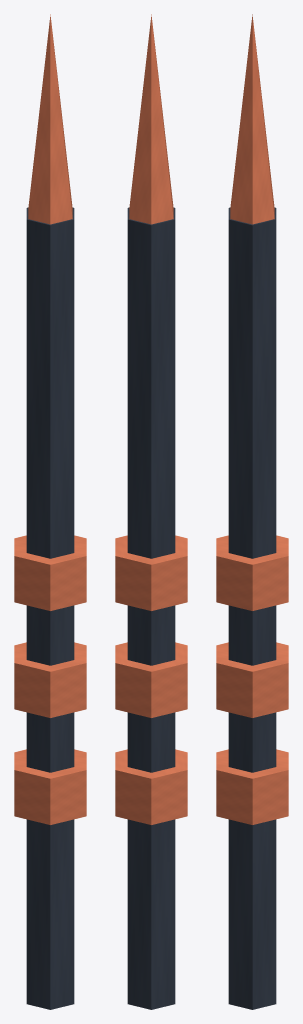
Rendered from atlas100-s021-a05.glb.
3 renders of one model, left to right at view 1: azimuth 90°, elevation 25°; view 2: azimuth 210°, elevation 25°; view 3: azimuth 270°, elevation 25°, orthographic.
Visible parts, largest first — view 1: atlas100-s021-a05:part-000, atlas100-s021-a05:part-004, atlas100-s021-a05:part-001, atlas100-s021-a05:part-002, atlas100-s021-a05:part-003; view 2: atlas100-s021-a05:part-000, atlas100-s021-a05:part-004, atlas100-s021-a05:part-001, atlas100-s021-a05:part-002, atlas100-s021-a05:part-003; view 3: atlas100-s021-a05:part-000, atlas100-s021-a05:part-004, atlas100-s021-a05:part-001, atlas100-s021-a05:part-002, atlas100-s021-a05:part-003.
Part boxes in pixels (<box>): atlas100-s021-a05:part-000: <box>26,207,74,1009</box>; atlas100-s021-a05:part-004: <box>28,14,72,224</box>; atlas100-s021-a05:part-001: <box>14,749,86,824</box>; atlas100-s021-a05:part-002: <box>14,642,86,717</box>; atlas100-s021-a05:part-003: <box>14,535,86,610</box>; atlas100-s021-a05:part-000: <box>127,207,175,1009</box>; atlas100-s021-a05:part-004: <box>129,14,173,224</box>; atlas100-s021-a05:part-001: <box>115,749,187,824</box>; atlas100-s021-a05:part-002: <box>115,642,187,717</box>; atlas100-s021-a05:part-003: <box>115,535,187,610</box>; atlas100-s021-a05:part-000: <box>228,207,276,1009</box>; atlas100-s021-a05:part-004: <box>230,14,274,224</box>; atlas100-s021-a05:part-001: <box>216,749,288,824</box>; atlas100-s021-a05:part-002: <box>216,642,288,717</box>; atlas100-s021-a05:part-003: <box>216,535,288,610</box>.
Size of the model in its own units: 0.1158 by 1.51 by 0.1002.
Materials: 2 (2 with a texture image).
